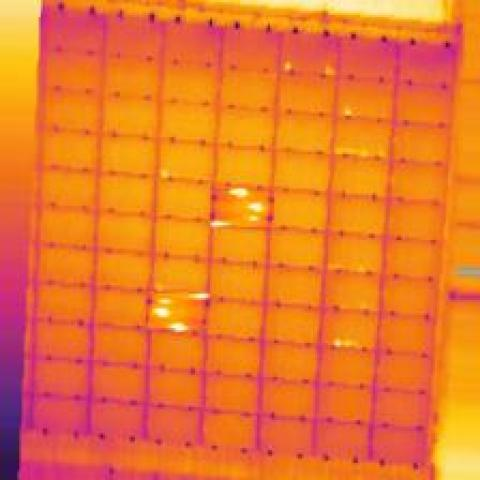fault: (182, 285, 210, 304), (330, 334, 358, 350), (225, 184, 249, 200), (165, 320, 189, 334), (208, 216, 231, 230), (148, 306, 171, 320), (154, 165, 174, 180), (244, 200, 264, 214), (340, 103, 356, 120), (322, 62, 336, 79), (156, 296, 172, 308), (244, 214, 260, 223), (281, 60, 291, 73)
